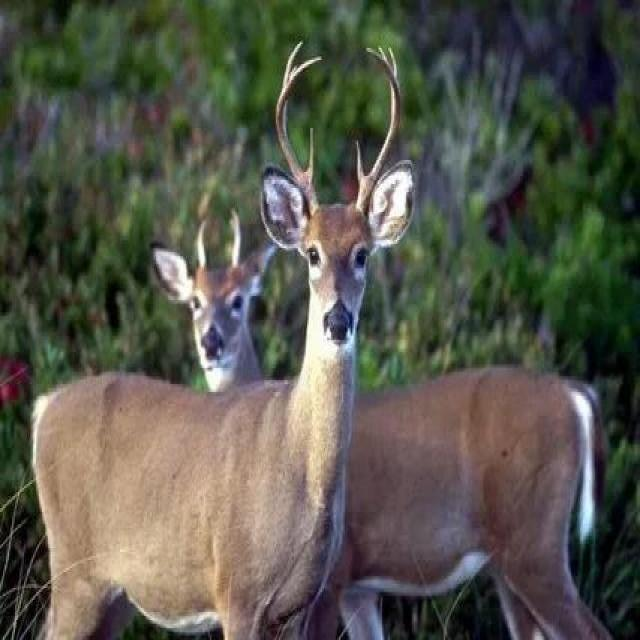deer: (175, 241, 640, 635), (8, 143, 409, 581)
